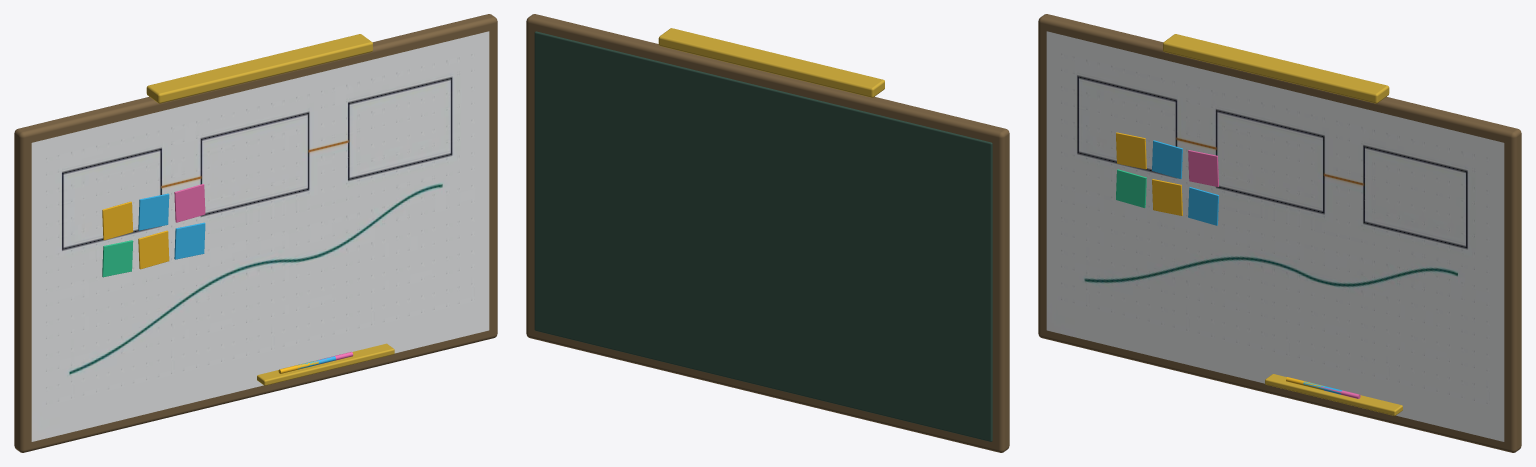
File: campus-wall-board-moss.glb
3 views of the same model, side by side, from view 1: azimuth 30°, elevation 25°; view 2: azimuth 150°, elevation 25°; view 3: azimuth 330°, elevation 25° (orthographic).
Size of the model in its own units: 1.39 by 0.925 by 0.0865.
Materials: 11 (1 with a texture image).
